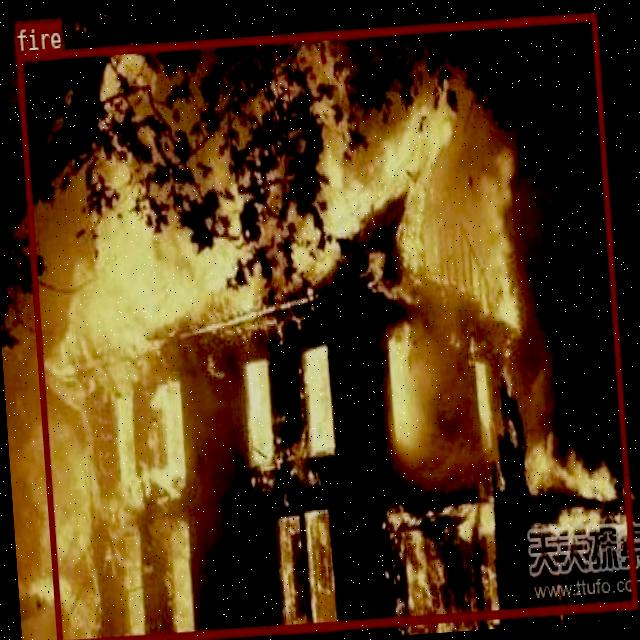fire: (15, 11, 636, 640)
